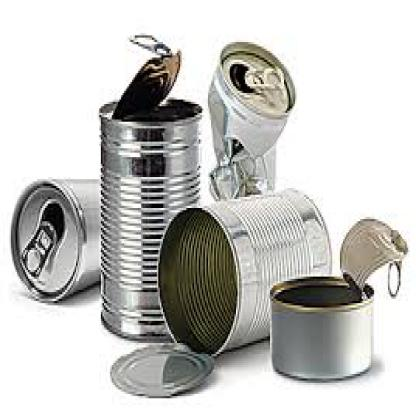METAL: (155, 186, 331, 356), (98, 100, 202, 343), (206, 40, 294, 199), (8, 170, 99, 306), (270, 274, 371, 380), (337, 214, 407, 298), (110, 343, 213, 396), (112, 36, 178, 118)
